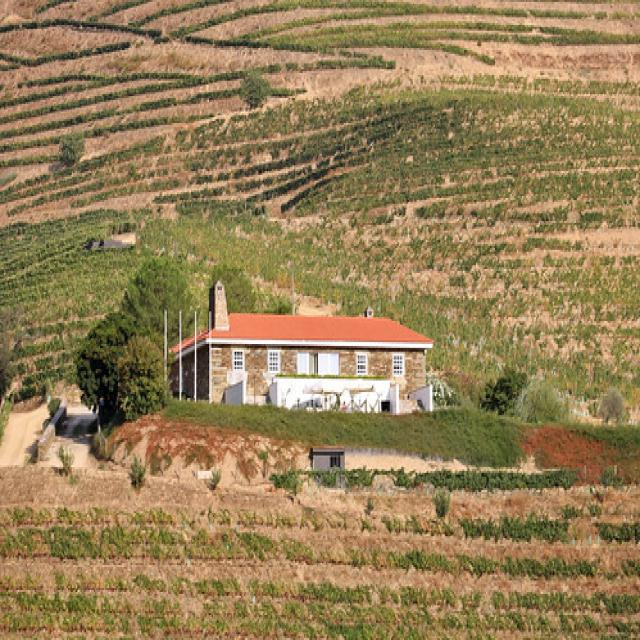building: (168, 280, 432, 422)
